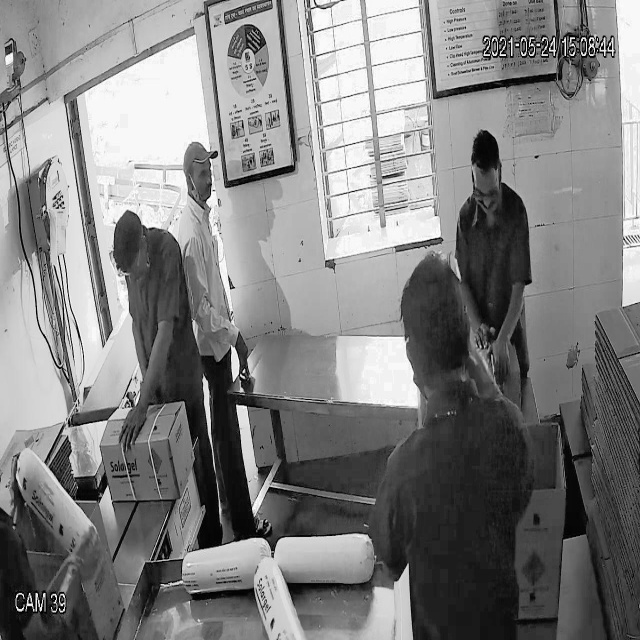Sin_gafas: (183, 162, 214, 188)
